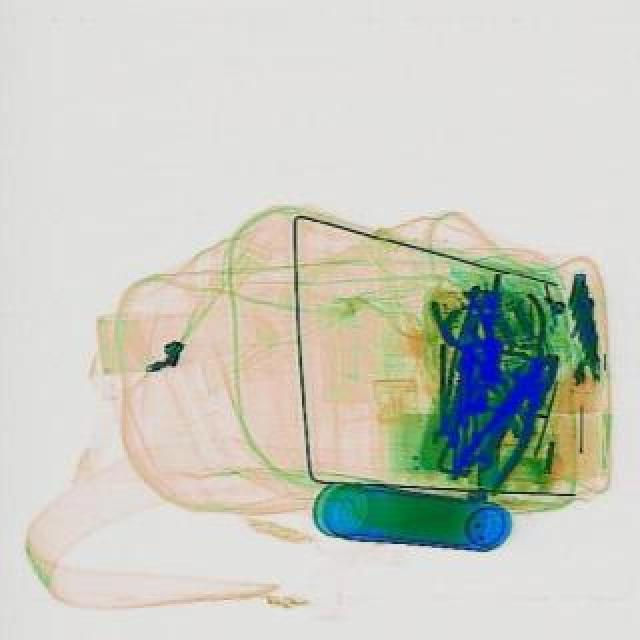wrench: (446, 344, 576, 498), (466, 292, 572, 392)
